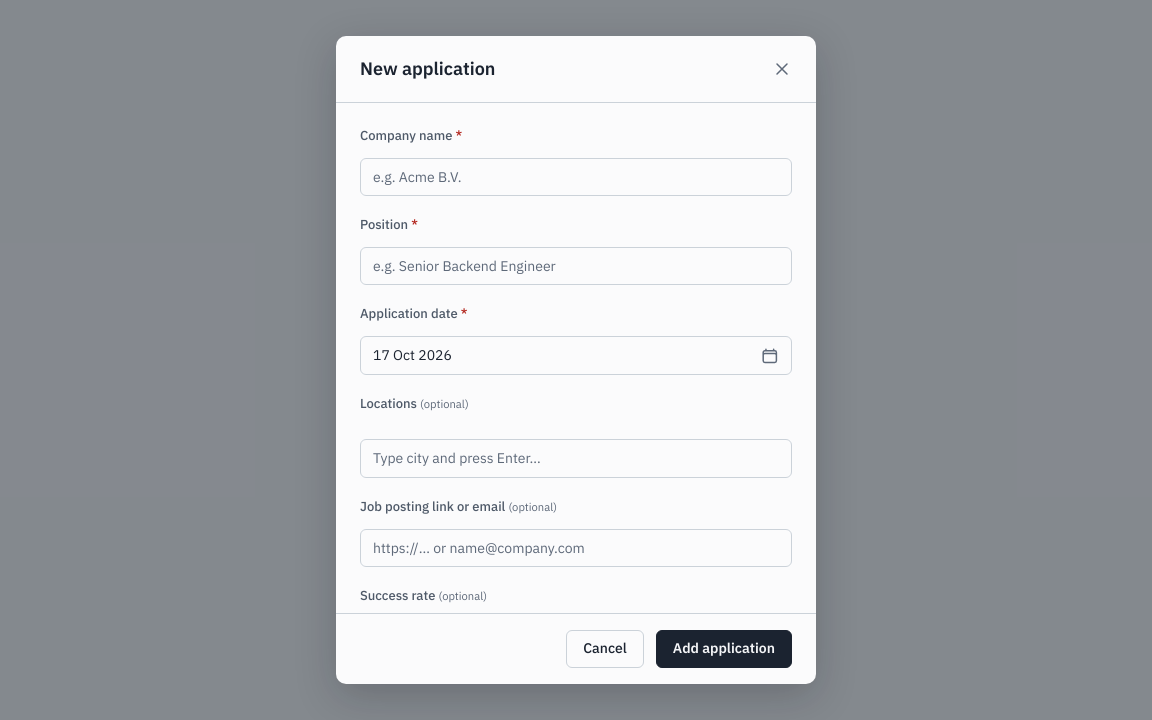
Test: NewApplicationModal – parse job link › fills empty company and position from the parsed link
Type "https://boards.greenhouse.io/acme/jobs/123" into the field with id "new-app-joburl" at (576, 548), box [360,528,792,567]
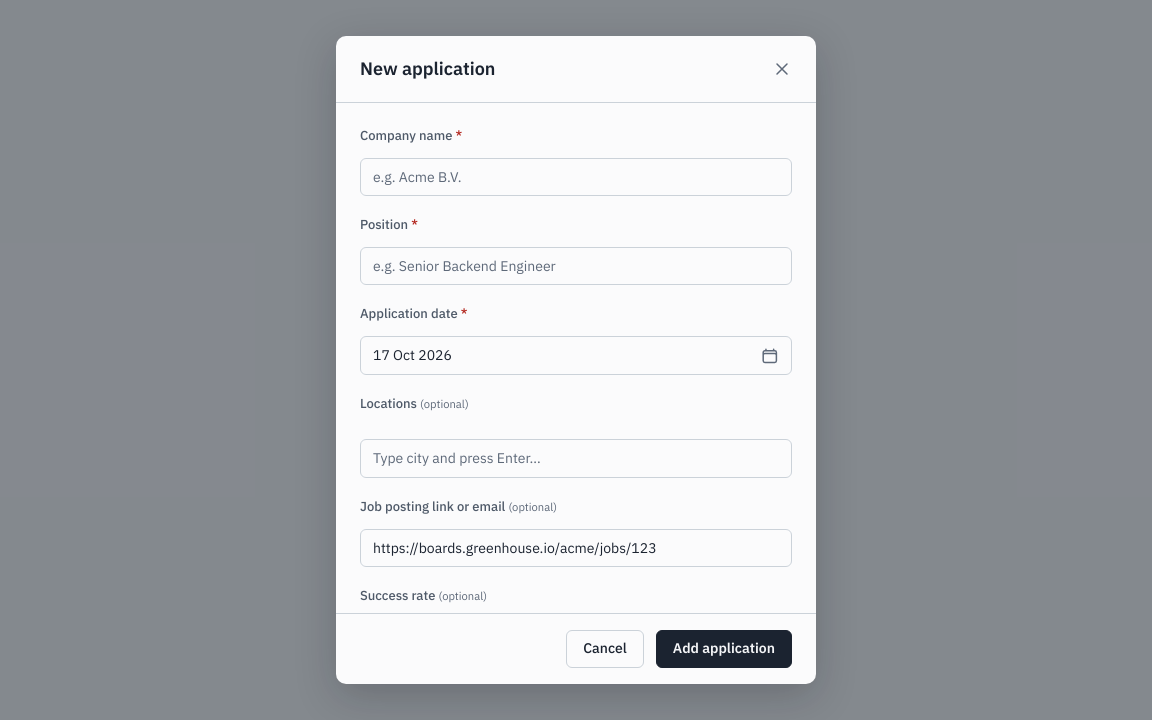
Leave the field with id "new-app-joburl", box [360,528,792,567]
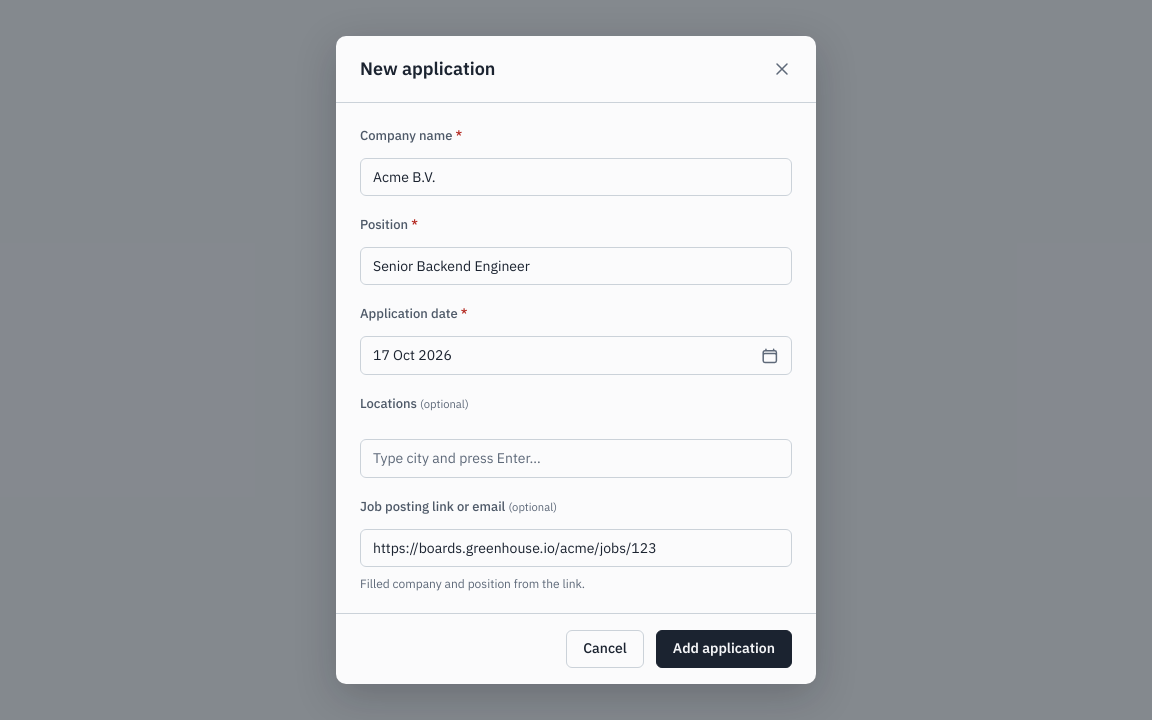
expect the dropdown with id "company-name" holds "Acme B.V.": met, box [360,158,792,196]
expect the field labelled "Position *" holds "Senior Backend Engineer": met, box [360,247,792,285]
